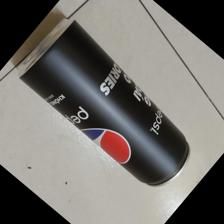Pepsi: (15, 17, 190, 186)
